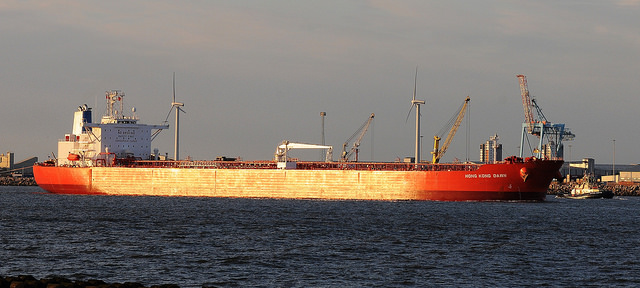tanker: (32, 89, 554, 202)
tug_boat: (563, 165, 613, 202)
